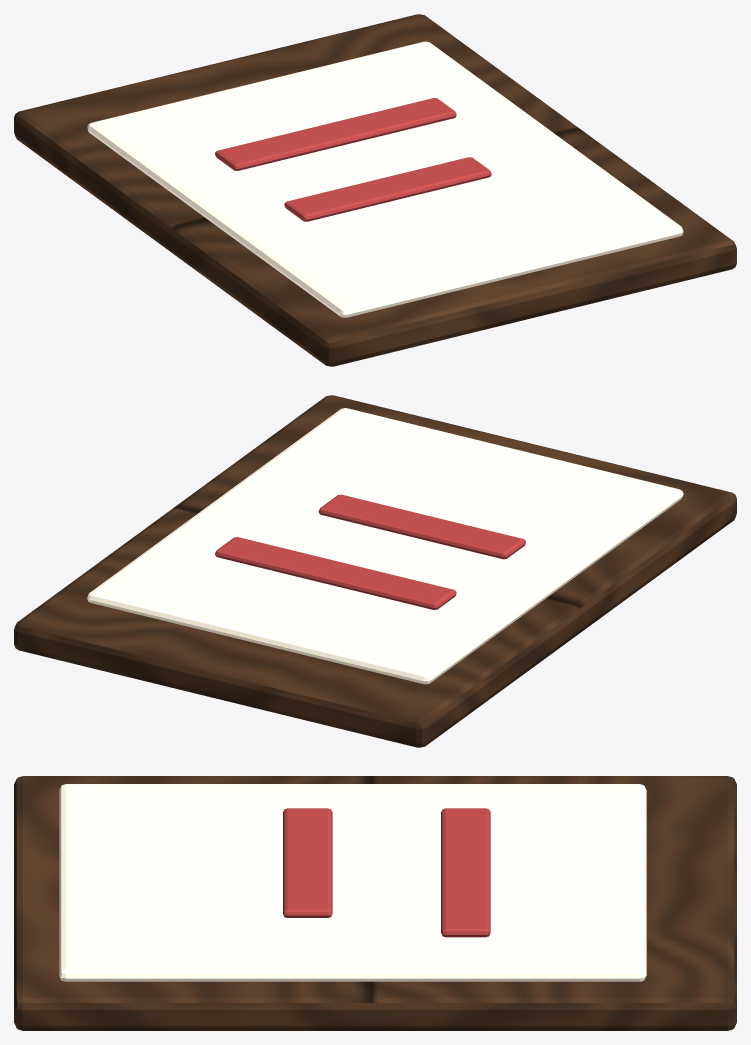
The model's file is item_code_note.glb.
3 renders of one model, top to bottom at view 1: azimuth 30°, elevation 25°; view 2: azimuth 150°, elevation 25°; view 3: azimuth 270°, elevation 25°, orthographic. The views are drawn at different scales.
Parts seen in each view (by area): view 1: Sheet, Board, Scrawl1, Scrawl2; view 2: Sheet, Board, Scrawl1, Scrawl2; view 3: Sheet, Board, Scrawl1, Scrawl2.
Part boxes in pixels (x1=…): Sheet: x1=87, y1=41, x2=683, y2=317; Board: x1=14, y1=14, x2=736, y2=366; Scrawl1: x1=215, y1=98, x2=456, y2=170; Scrawl2: x1=284, y1=157, x2=491, y2=221; Sheet: x1=87, y1=408, x2=683, y2=684; Board: x1=14, y1=395, x2=736, y2=747; Scrawl1: x1=215, y1=537, x2=456, y2=609; Scrawl2: x1=318, y1=494, x2=525, y2=559; Sheet: x1=59, y1=784, x2=646, y2=981; Board: x1=14, y1=776, x2=736, y2=1030; Scrawl1: x1=441, y1=808, x2=490, y2=937; Scrawl2: x1=283, y1=808, x2=332, y2=917.
Size of the model in its own units: 0.24 by 0.025 by 0.32.
3 materials, 1 textured.
